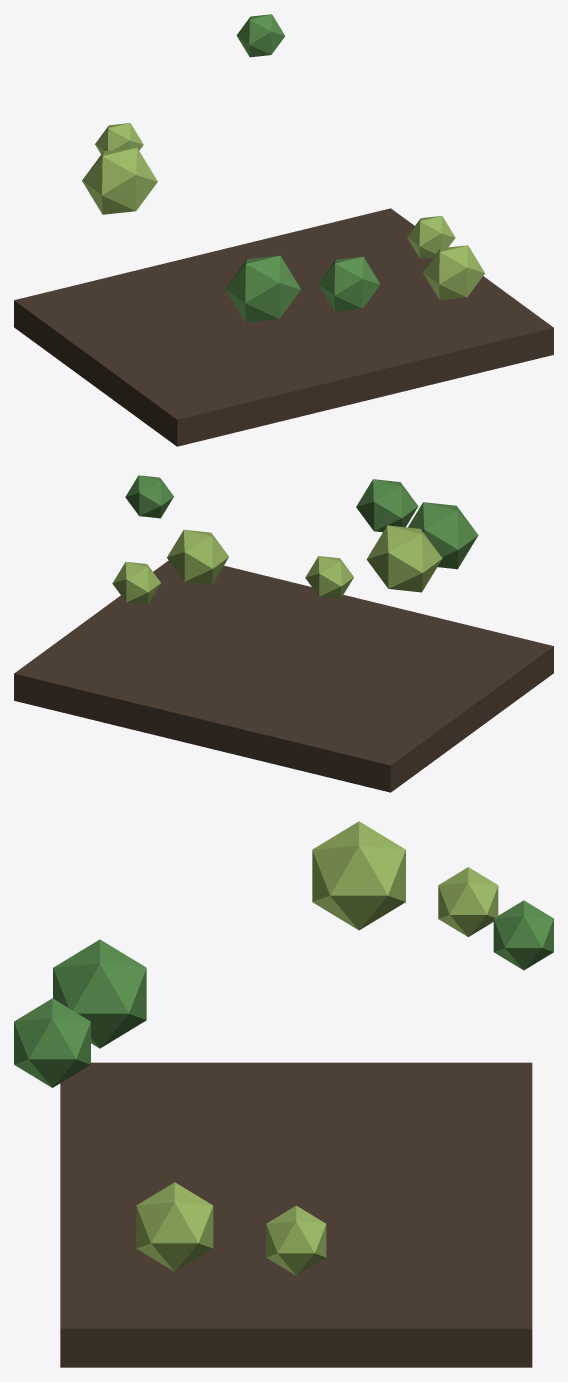
Rendered from sky_seed_garden.glb.
3 renders of one model, top to bottom at view 1: azimuth 30°, elevation 25°; view 2: azimuth 150°, elevation 25°; view 3: azimuth 270°, elevation 25°, orthographic. The views are drawn at different scales.
Visible parts, largest first — view 1: habitat_base, seed_5, seed_2, seed_1, seed_4, seed_3, seed_0, seed_6; view 2: habitat_base, seed_2, seed_5, seed_4, seed_1, seed_3, seed_0, seed_6; view 3: habitat_base, seed_2, seed_5, seed_4, seed_1, seed_3, seed_0, seed_6.
Part boxes in pixels (x1,y1,x2,y2): habitat_base: [14, 208, 553, 446]; seed_5: [225, 255, 300, 322]; seed_2: [82, 147, 157, 214]; seed_1: [318, 256, 380, 311]; seed_4: [423, 245, 484, 300]; seed_3: [236, 14, 284, 57]; seed_0: [407, 216, 455, 258]; seed_6: [95, 123, 143, 154]; habitat_base: [14, 560, 553, 792]; seed_2: [366, 525, 442, 592]; seed_5: [408, 502, 478, 569]; seed_4: [167, 529, 228, 584]; seed_1: [356, 479, 418, 532]; seed_3: [125, 475, 173, 518]; seed_0: [112, 561, 160, 604]; seed_6: [305, 556, 353, 598]; habitat_base: [60, 1062, 532, 1367]; seed_2: [312, 821, 405, 930]; seed_5: [53, 939, 146, 1048]; seed_4: [136, 1182, 213, 1271]; seed_1: [14, 998, 90, 1087]; seed_3: [493, 900, 553, 970]; seed_0: [266, 1205, 326, 1275]; seed_6: [438, 867, 498, 937].
Size of what is drawn, in the model's own units: 3.2 by 2.05 by 2.75.
